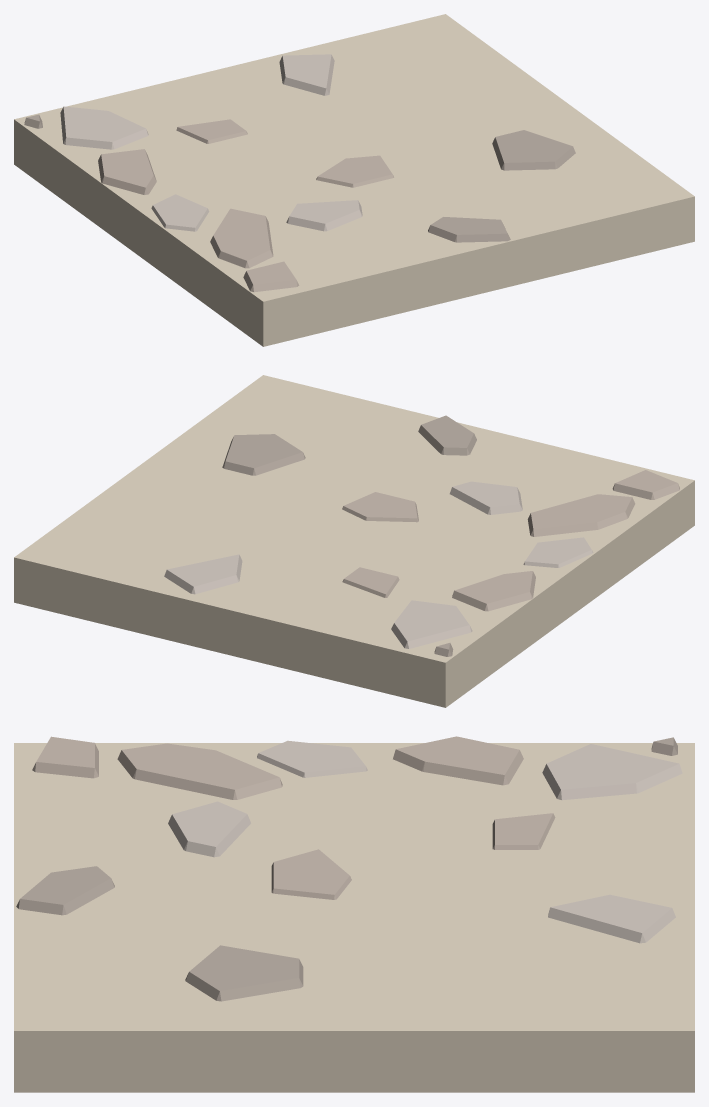
Rendered from Cobblestone_Dirt_Transition_4.glb.
3 renders of one model, top to bottom at view 1: azimuth 30°, elevation 25°; view 2: azimuth 150°, elevation 25°; view 3: azimuth 270°, elevation 25°, orthographic. The views are drawn at different scales.
Parts seen in each view (by area): view 1: object1; view 2: object1; view 3: object1.
Part boxes in pixels (x1,y1,x2,y2): object1: (14,14,694,346); object1: (14,375,694,707); object1: (14,736,694,1092).
Size of the model in its own units: 2 by 0.2281 by 2.
